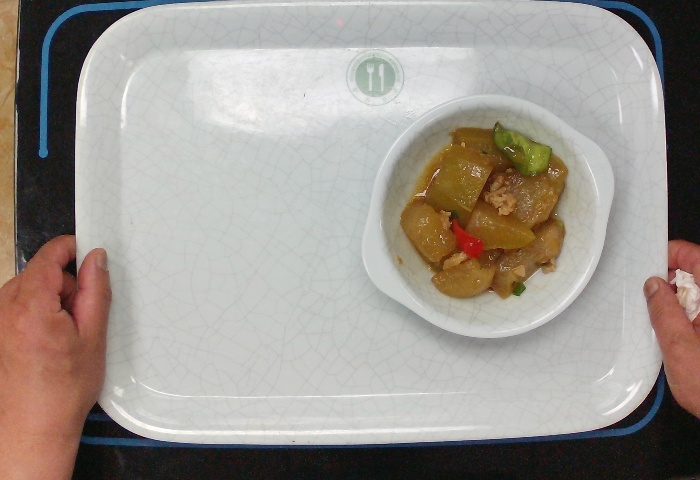JYsf-Shuang_Er_Wan: (359, 89, 619, 341)
